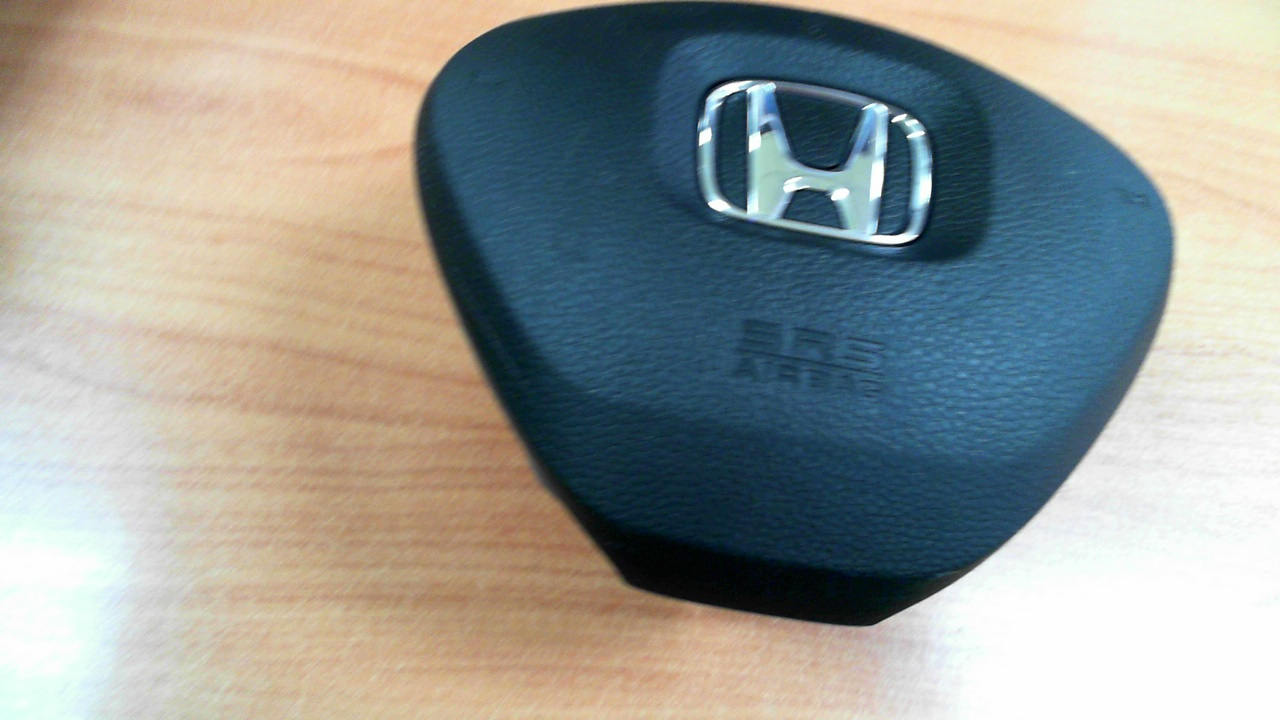Airbag: (413, 5, 1178, 629)
Honda: (697, 73, 934, 248)
